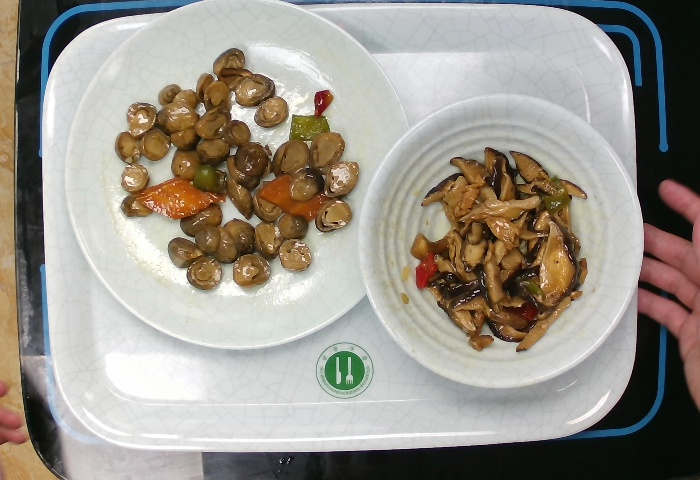JYsf-Da_Yuan_Pan: (58, 1, 403, 360)
JYsf-Xiao_Tang_Wan: (360, 101, 646, 389)
